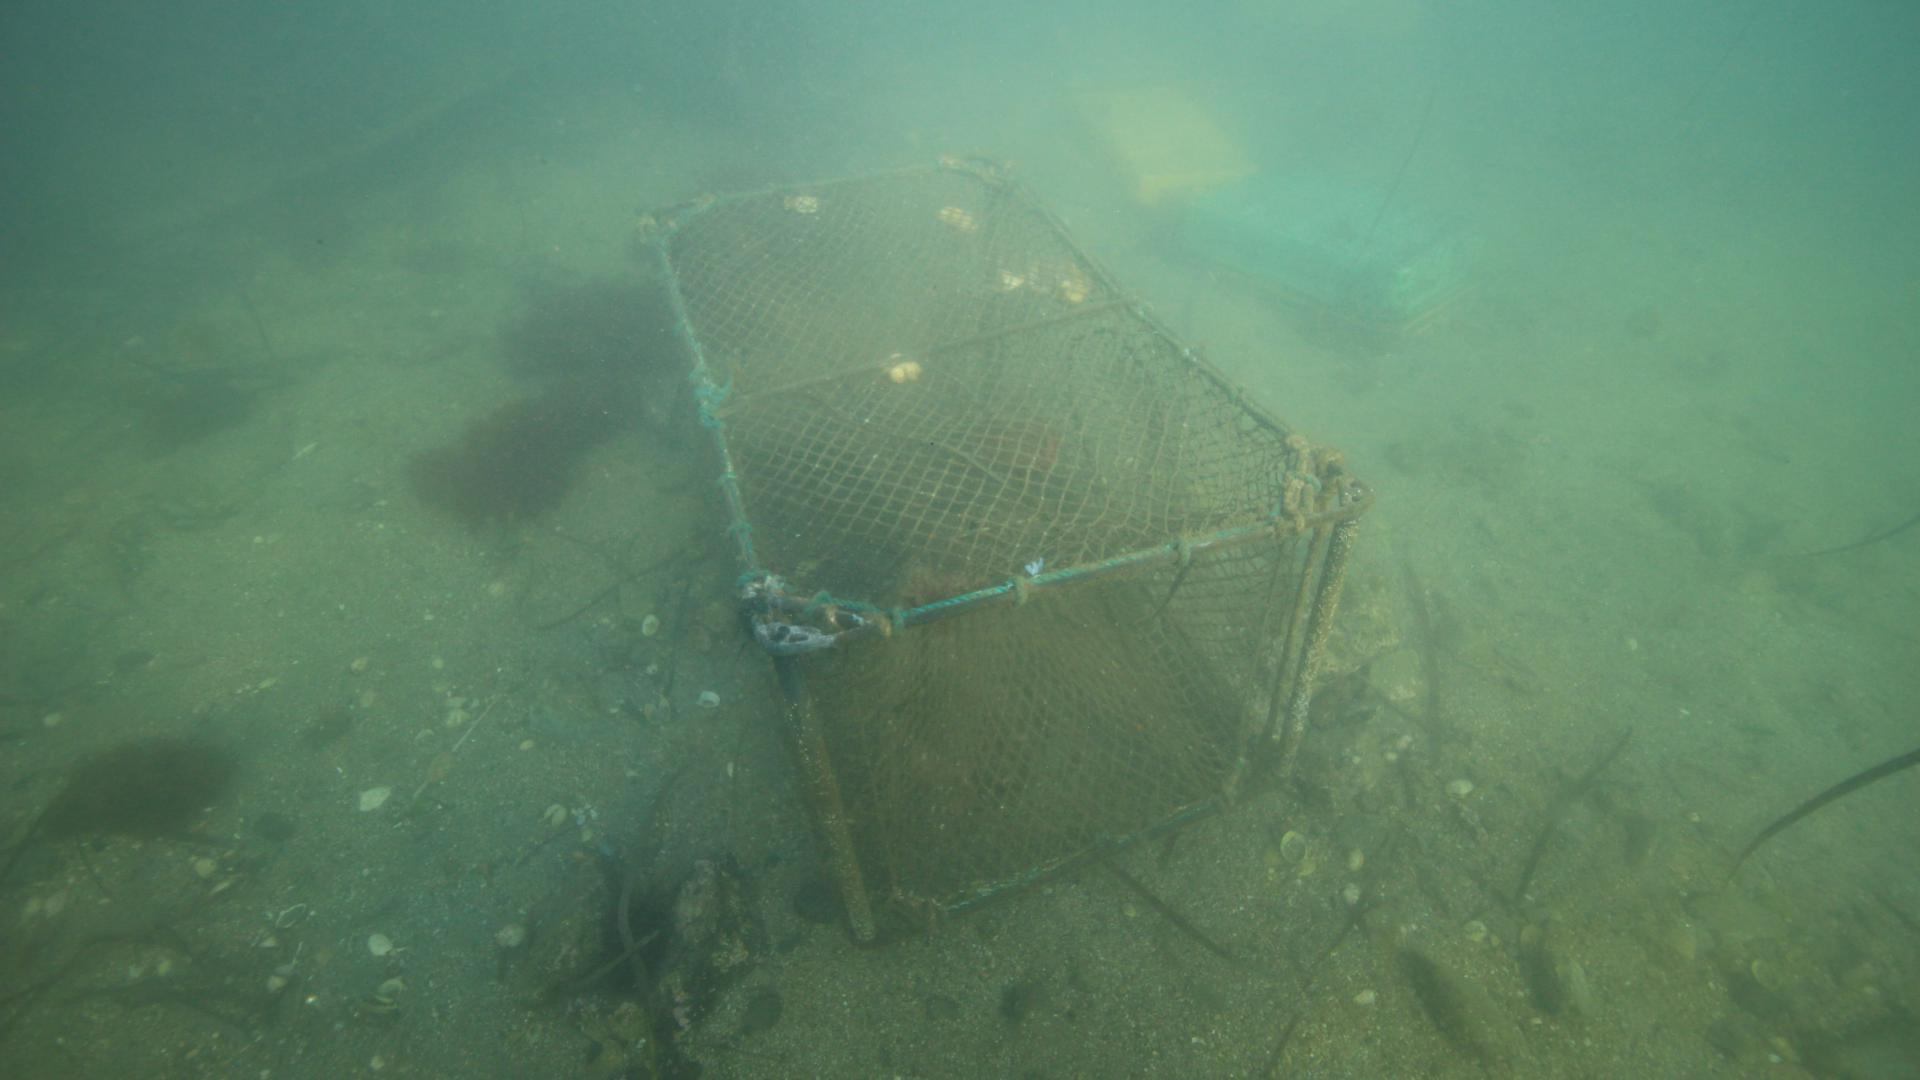rectangular fish trap: (636, 153, 1381, 948)
